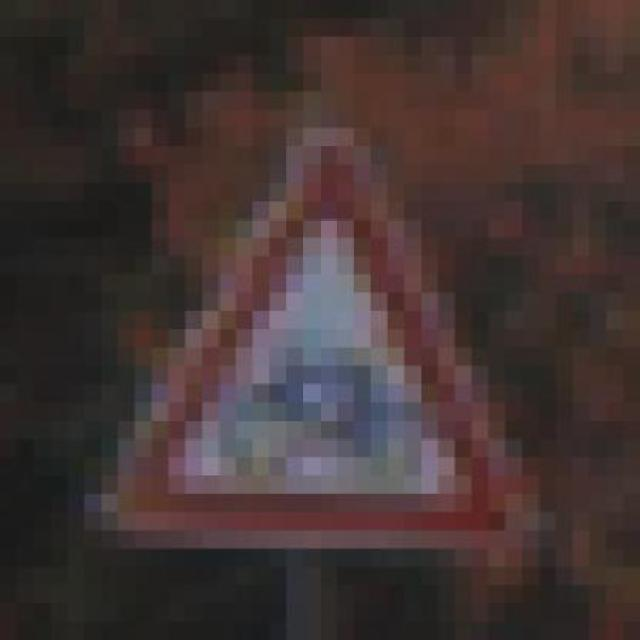CYCLE ROUTE AHEAD WARNING: (101, 110, 556, 567)
